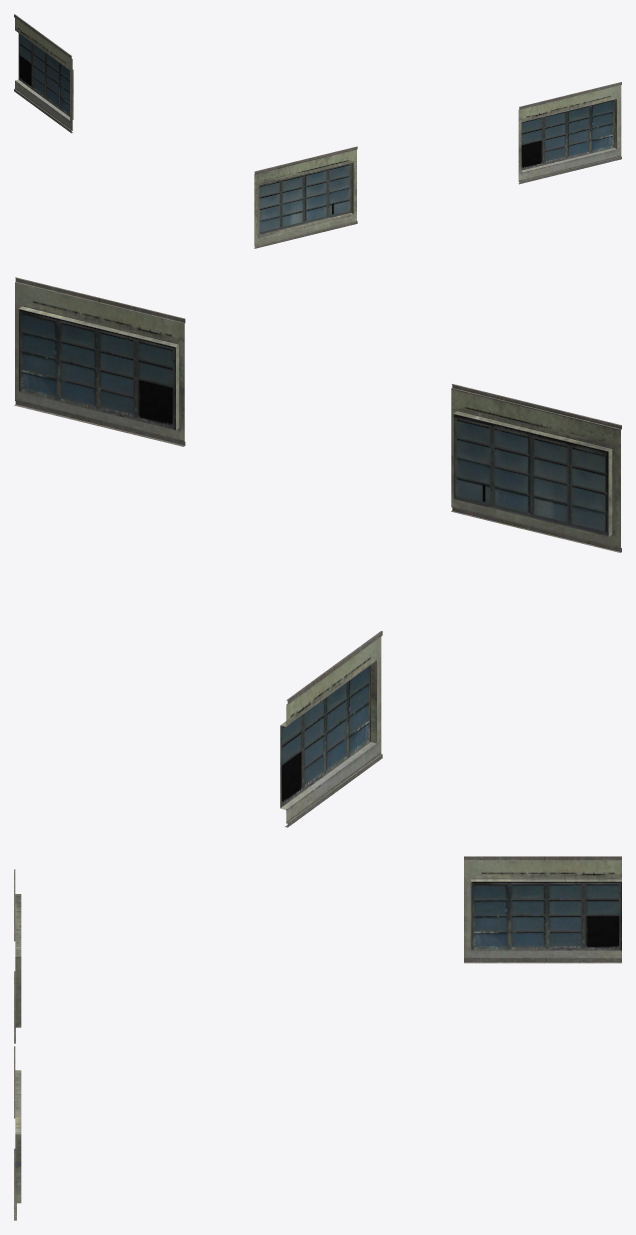
The model's file is warehouse_building01_building01_2_0_lev1.glb.
The picture shows the model from 3 angles, top to bottom: view 1: azimuth 30°, elevation 25°; view 2: azimuth 150°, elevation 25°; view 3: azimuth 270°, elevation 25°; orthographic projection. The views are drawn at different scales.
Visible parts, largest first — view 1: warehouse_building01_building01_2_0_lev1; view 2: warehouse_building01_building01_2_0_lev1; view 3: warehouse_building01_building01_2_0_lev1.
Part boxes in pixels (x1,y1,x2,y2): warehouse_building01_building01_2_0_lev1: (14,14,621,248); warehouse_building01_building01_2_0_lev1: (14,277,621,827); warehouse_building01_building01_2_0_lev1: (14,856,621,1220).
Bounding box in the file's own units: 9.01 × 1.71 × 8.95.
1 material, 1 textured.
